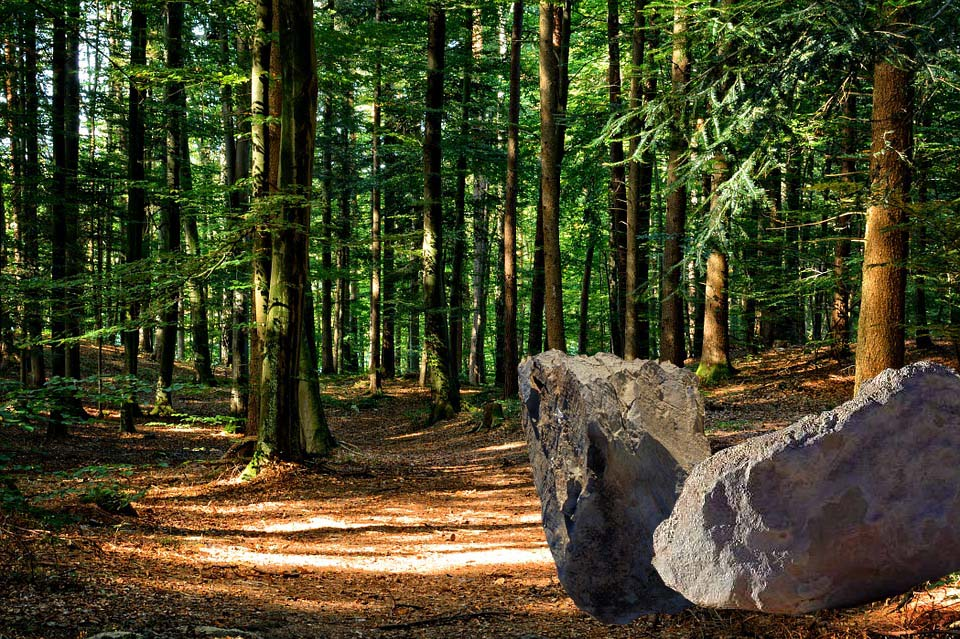Rocks: (654, 354, 952, 617), (511, 346, 709, 625)
